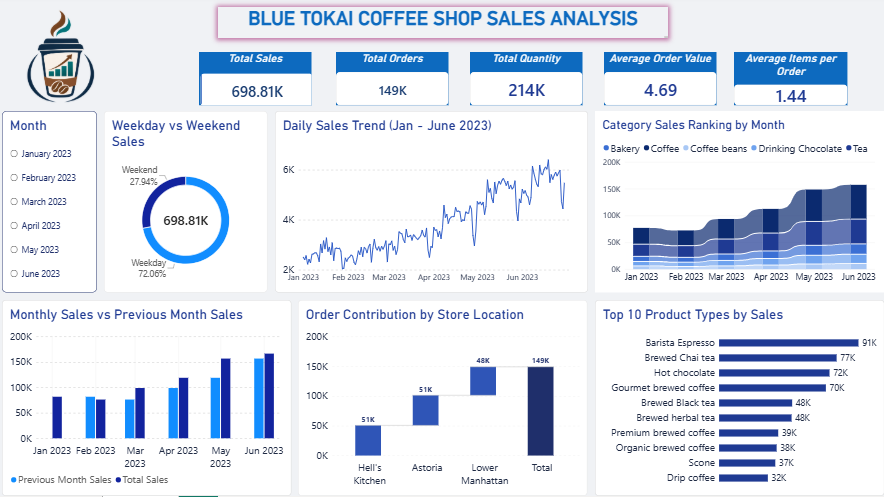

What the dashboard file says about the page in this screenshot:
{"tool":"powerbi","page":{"name":"Page 1","canvas":[1920,1080],"ordinal":0},"visuals":[{"type":"textbox","title":"BLUE TOKAI COFFEE SHOP SALES ANALYSIS","box":[479,23.8,972,67],"z":0},{"type":"cardVisual","title":"Total Sales ","fields":{"Data":["DAX Measures.Total Sales"]},"box":[438.5,121,243,115],"z":1000},{"type":"image","box":[12,23,256,210],"z":2000},{"type":"cardVisual","title":"Total Orders","fields":{"Data":["DAX Measures.Total Orders"]},"box":[734.4,121,243,115],"z":3000},{"type":"cardVisual","title":"Total Quantity ","fields":{"Data":["DAX Measures.Total Quantity Sold"]},"box":[1023.8,121,243,115],"z":4000},{"type":"cardVisual","title":"Average Order Value","fields":{"Data":["DAX Measures.Average Order Value"]},"box":[1313.3,121,243,115],"z":5000},{"type":"cardVisual","title":"Average Items per Order ","fields":{"Data":["DAX Measures.Average Items per Order"]},"box":[1594.1,121,245,115],"z":6000},{"type":"lineChart","title":"Daily Sales Trend (Jan - June 2023)","fields":{"Category":["Transactions.transaction_date"],"Y":["DAX Measures.Total Sales"]},"box":[602.6,249,676,392],"z":7000},{"type":"ribbonChart","title":"Category Sales Ranking by Month","fields":{"Category":["Date.Month"],"Series":["Transactions.product_category"],"Y":["DAX Measures.Total Sales"]},"box":[1294,249,625,392],"z":8000},{"type":"clusteredBarChart","title":"Top 10 Product Types by Sales","fields":{"Category":["Transactions.product_type"],"Y":["DAX Measures.Total Sales"]},"box":[1294,657,625,423],"z":9000},{"type":"clusteredColumnChart","title":"Monthly Sales vs Previous Month Sales ","fields":{"Category":["Date.Month"],"Y":["DAX Measures.Previous Month Sales","DAX Measures.Total Sales"]},"box":[12,657,625,423],"z":10000},{"type":"waterfallChart","title":"Order Contribution by Store Location","fields":{"Category":["Transactions.store_location"],"Y":["DAX Measures.Total Orders"]},"box":[653,657,625,423],"z":11000},{"type":"listSlicer","fields":{"Values":["Date.Month"]},"box":[13,249,205.2,392],"z":12000},{"type":"donutChart","title":"Weekday vs Weekend Sales","fields":{"Category":["Date.Day Type"],"Y":["DAX Measures.Total Sales"]},"box":[233,249,353,392],"z":13000}]}

Visuals, with their boxes in screenshot pixels (x1, y1, x2, y2), scaled from the page's 1920x1080 canvas onto the 884x497 screenshot:
"BLUE TOKAI COFFEE SHOP SALES ANALYSIS" textbox: [x1=221, y1=11, x2=668, y2=42]
"Total Sales " cardVisual: [x1=202, y1=56, x2=314, y2=109]
image: [x1=6, y1=11, x2=123, y2=107]
"Total Orders" cardVisual: [x1=338, y1=56, x2=450, y2=109]
"Total Quantity " cardVisual: [x1=471, y1=56, x2=583, y2=109]
"Average Order Value" cardVisual: [x1=605, y1=56, x2=717, y2=109]
"Average Items per Order " cardVisual: [x1=734, y1=56, x2=847, y2=109]
"Daily Sales Trend (Jan - June 2023)" lineChart: [x1=277, y1=115, x2=589, y2=295]
"Category Sales Ranking by Month" ribbonChart: [x1=596, y1=115, x2=883, y2=295]
"Top 10 Product Types by Sales" clusteredBarChart: [x1=596, y1=302, x2=883, y2=496]
"Monthly Sales vs Previous Month Sales " clusteredColumnChart: [x1=6, y1=302, x2=293, y2=496]
"Order Contribution by Store Location" waterfallChart: [x1=301, y1=302, x2=588, y2=496]
listSlicer - Date.Month: [x1=6, y1=115, x2=100, y2=295]
"Weekday vs Weekend Sales" donutChart: [x1=107, y1=115, x2=270, y2=295]
